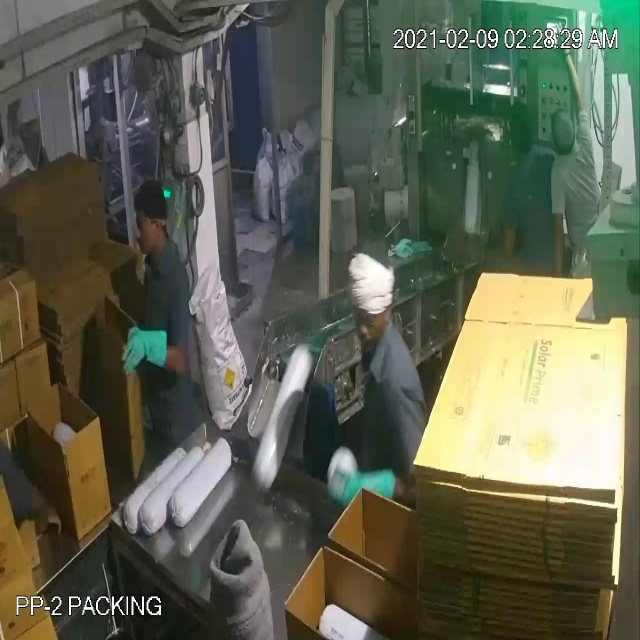Guantes: (323, 453, 399, 514), (120, 324, 172, 379)
Sin_guantes: (552, 31, 589, 122), (545, 196, 574, 292)
